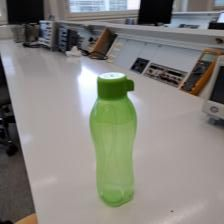bottle: (87, 68, 139, 207)
